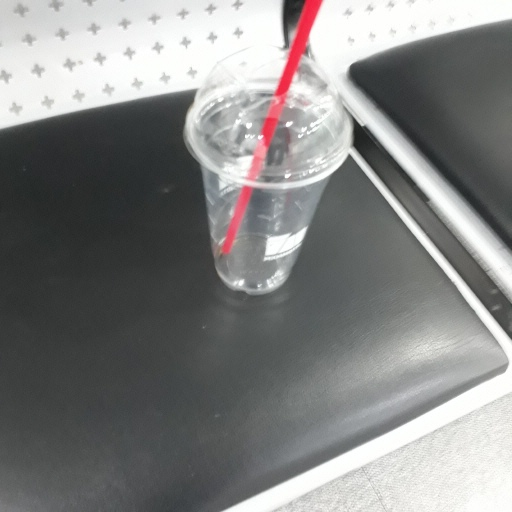Plastic_2: (185, 1, 353, 299)
